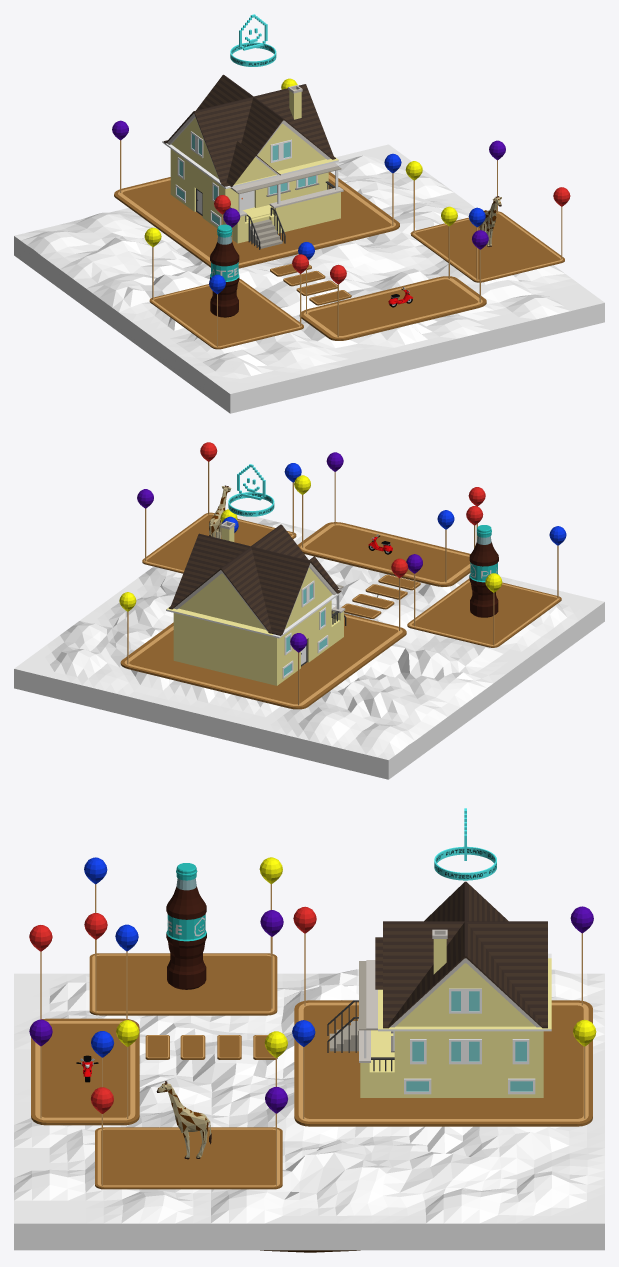
The picture shows the model from 3 angles, top to bottom: view 1: azimuth 30°, elevation 25°; view 2: azimuth 150°, elevation 25°; view 3: azimuth 270°, elevation 25°; orthographic projection. The views are drawn at different scales.
Parts seen in each view (by area): view 1: Cube.013, Cube.1555, OBJRANDOM_PLATZEECOLA, TYPE_PREMIUM; view 2: Cube.013, Cube.1555, OBJRANDOM_PLATZEECOLA, TYPE_PREMIUM, ANIMAL_JIRAFA; view 3: Cube.013, Cube.1555, OBJRANDOM_PLATZEECOLA, ANIMAL_JIRAFA, TYPE_PREMIUM.
Boxes of the visible parts, left/top/right/bottom form: Cube.013: left=14, top=78, right=604, bottom=413; Cube.1555: left=162, top=74, right=343, bottom=249; OBJRANDOM_PLATZEECOLA: left=210, top=224, right=239, bottom=317; TYPE_PREMIUM: left=230, top=14, right=276, bottom=66; Cube.013: left=14, top=442, right=604, bottom=779; Cube.1555: left=166, top=521, right=346, bottom=685; OBJRANDOM_PLATZEECOLA: left=469, top=525, right=498, bottom=617; TYPE_PREMIUM: left=228, top=464, right=274, bottom=516; ANIMAL_JIRAFA: left=209, top=485, right=231, bottom=538; Cube.013: left=14, top=857, right=604, bottom=1250; Cube.1555: left=327, top=881, right=551, bottom=1097; OBJRANDOM_PLATZEECOLA: left=166, top=863, right=206, bottom=989; ANIMAL_JIRAFA: left=156, top=1081, right=211, bottom=1159; TYPE_PREMIUM: left=434, top=808, right=496, bottom=880.
Size of the model in its own units: 4000 by 2509 by 4000.
Materials: 43 (2 with a texture image).
